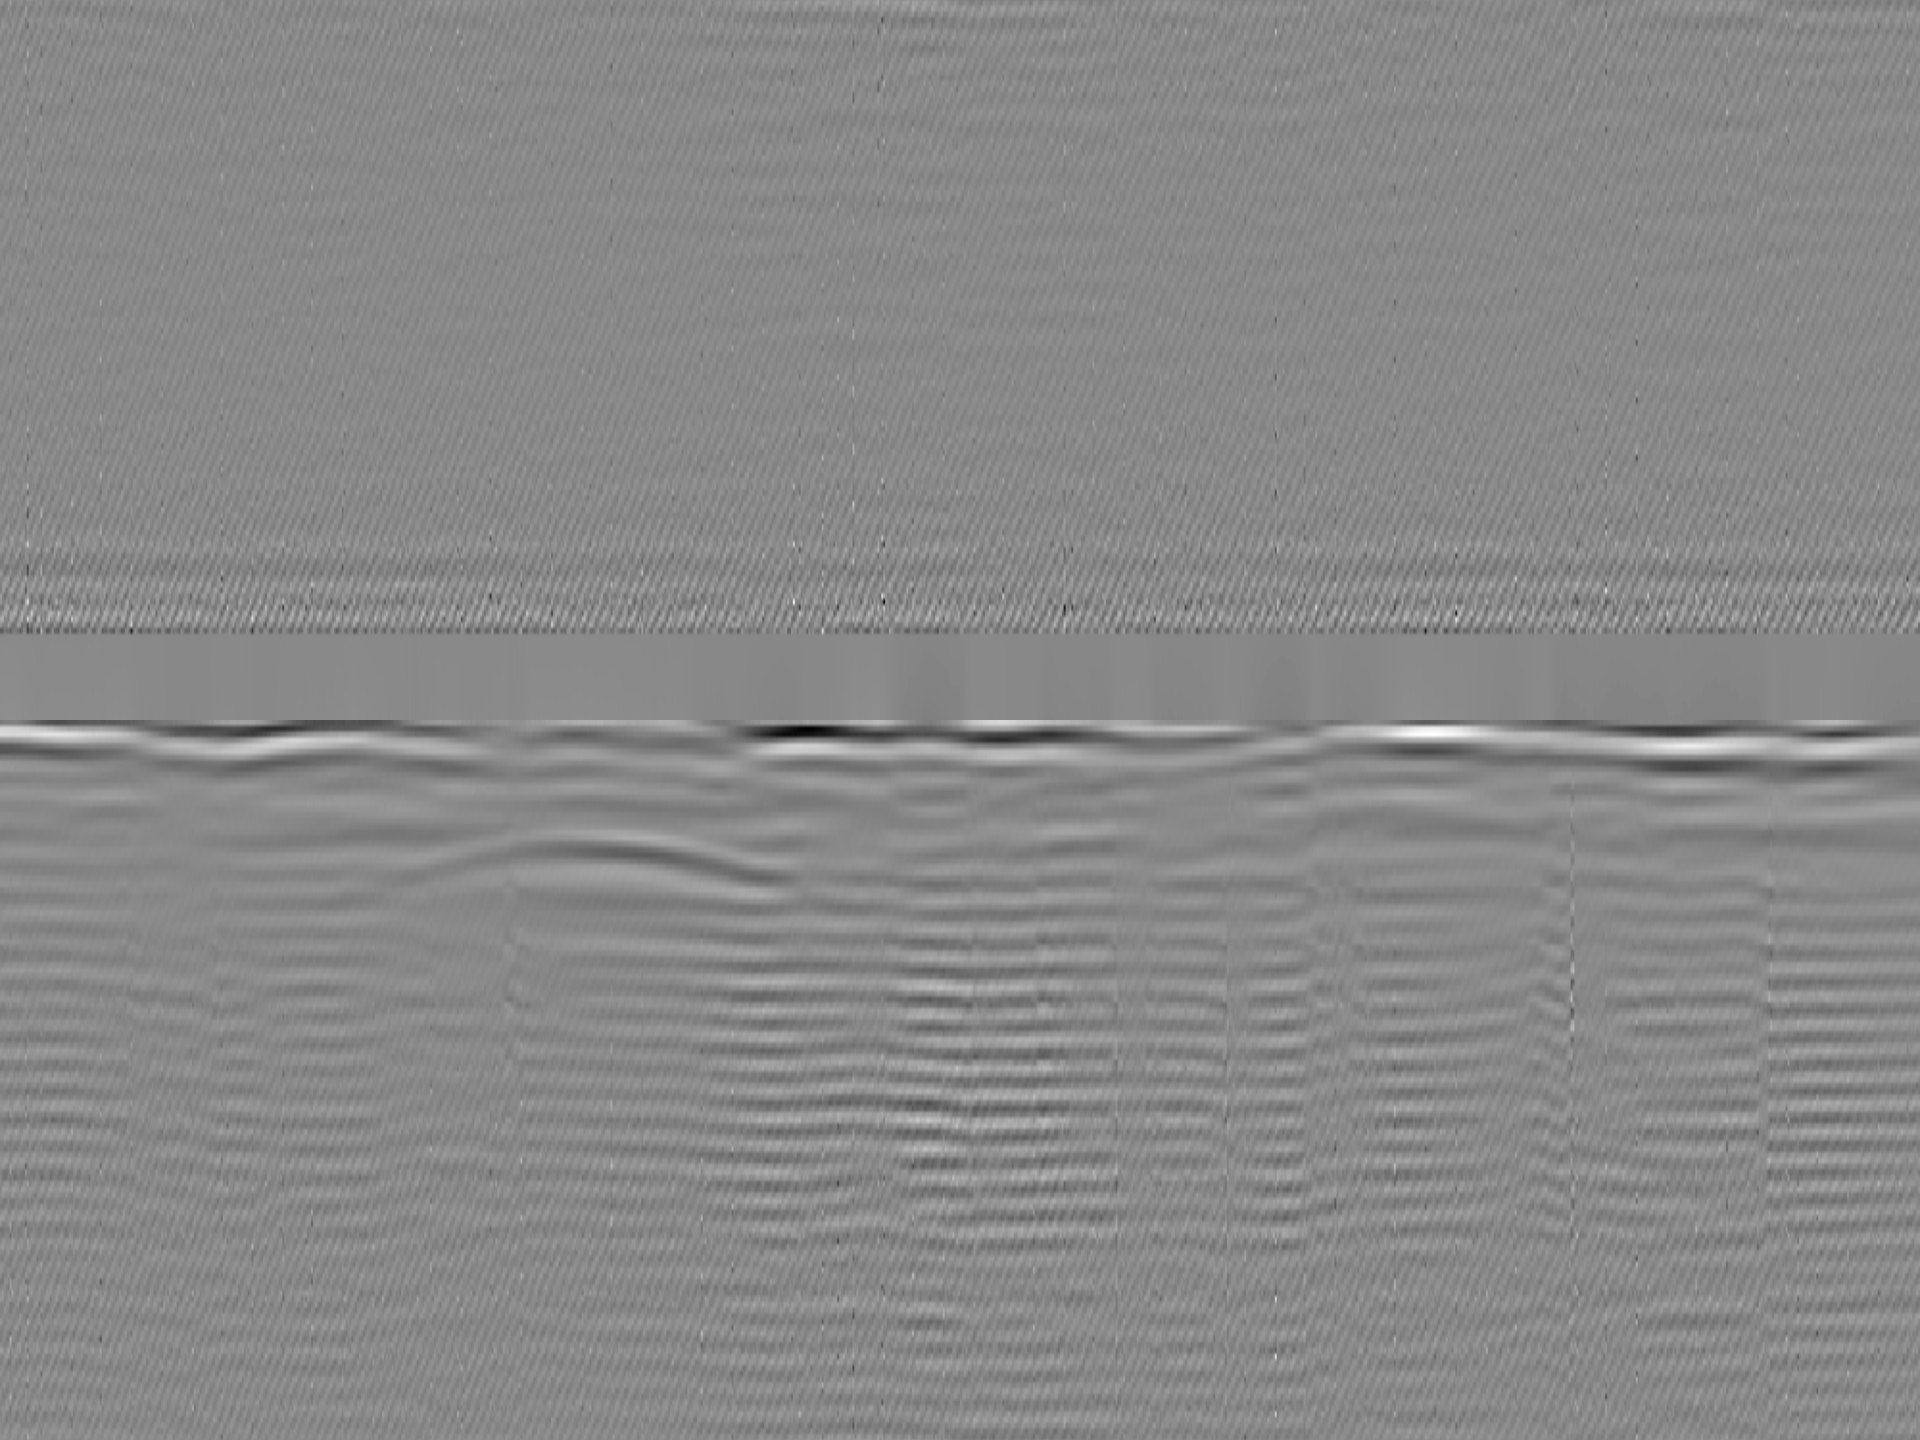Tunnel: (382, 829, 819, 898)
